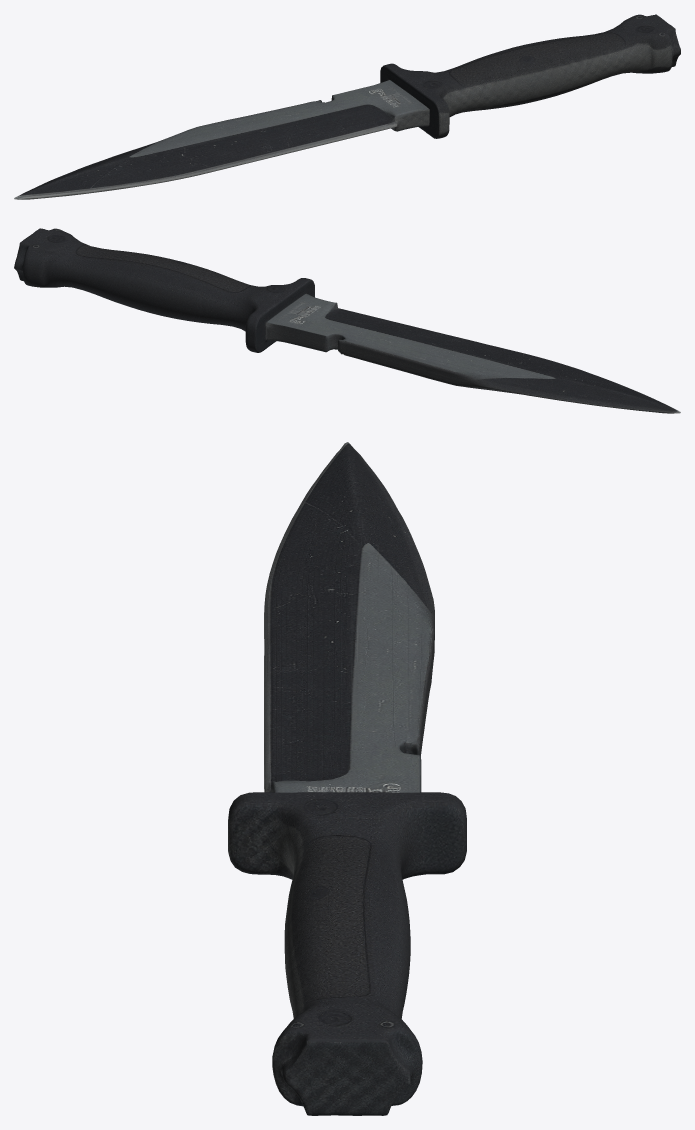
File: knife-combat.glb
The picture shows the model from 3 angles, top to bottom: view 1: azimuth 30°, elevation 25°; view 2: azimuth 150°, elevation 25°; view 3: azimuth 270°, elevation 25°; orthographic projection. The views are drawn at different scales.
Visible parts, largest first — view 1: mesh_node; view 2: mesh_node; view 3: mesh_node.
Part boxes in pixels (bbox=[...]): mesh_node: bbox=[14, 14, 680, 199]; mesh_node: bbox=[14, 228, 680, 413]; mesh_node: bbox=[228, 442, 466, 1115].
Bounding box in the file's own units: 1.9 × 0.1288 × 0.3018.
Materials: 1 (1 with a texture image).
